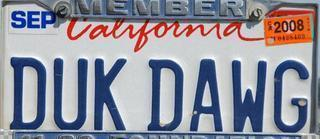placa de veiculo: (3, 0, 311, 139)
